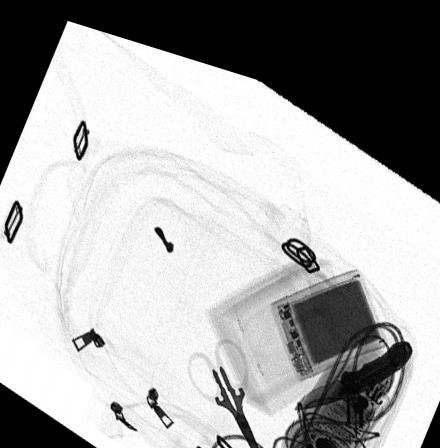Knife: (293, 318, 411, 393)
Powerbank: (269, 249, 386, 363)
Scissors: (184, 324, 265, 448)
